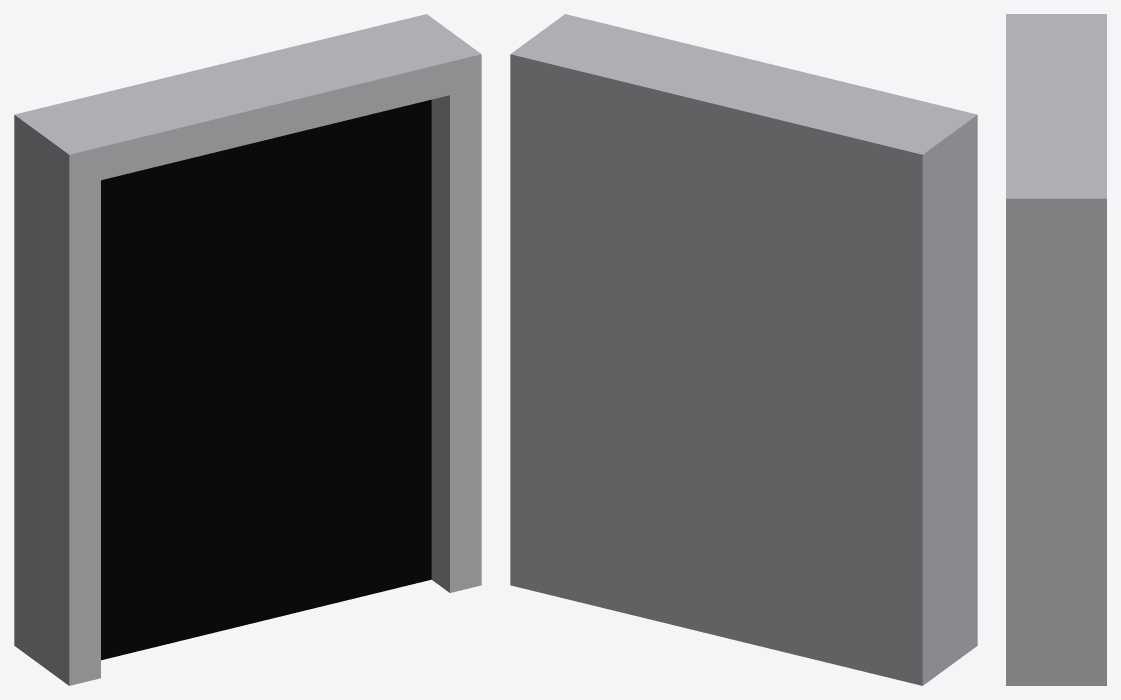
File: dungeon_d_a_entrance_a.obj
3 views of the same model, side by side, from view 1: azimuth 30°, elevation 25°; view 2: azimuth 150°, elevation 25°; view 3: azimuth 270°, elevation 25° (orthographic). The views are drawn at different scales.
Size of the model in its own units: 1.3 by 1.6 by 0.3.
Materials: 1 (1 with a texture image).
